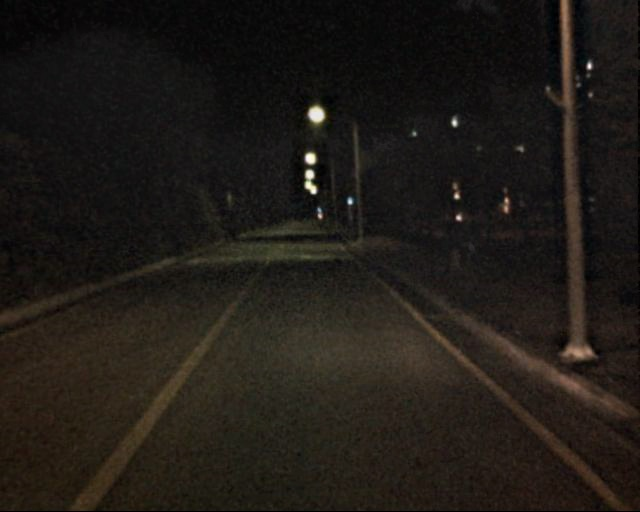person: (459, 210, 484, 272), (441, 212, 466, 273)
